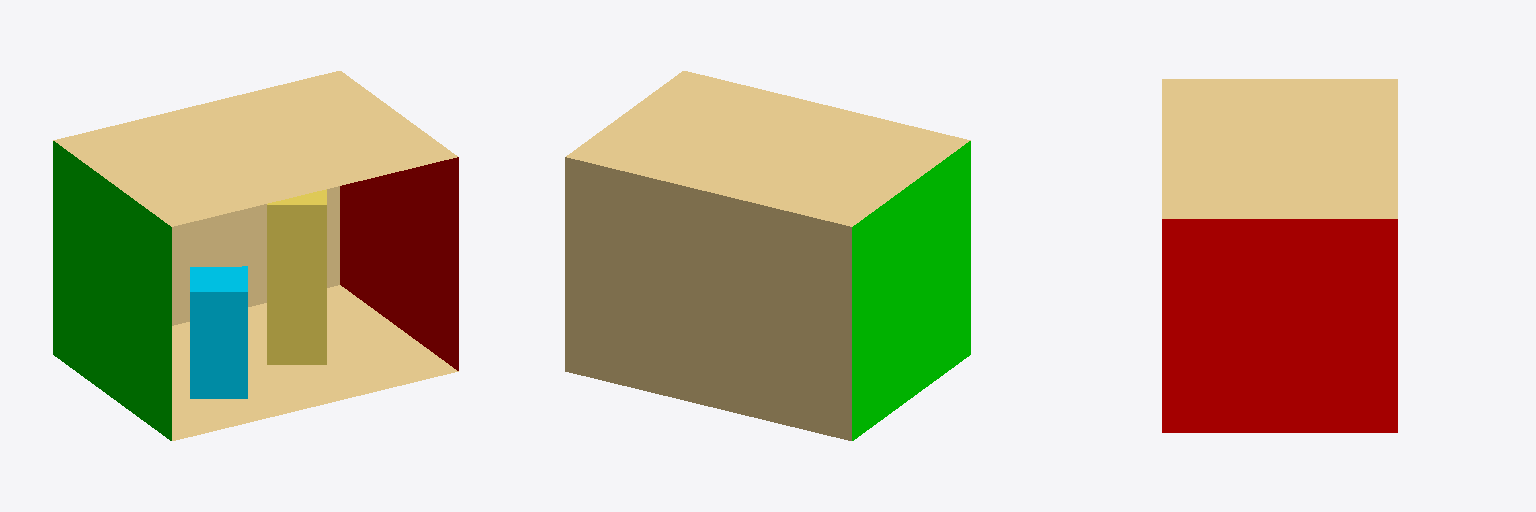
Rendered from cornell.obj.
The picture shows the model from 3 angles: view 1: azimuth 30°, elevation 25°; view 2: azimuth 150°, elevation 25°; view 3: azimuth 270°, elevation 25°; orthographic projection.
Visible parts, largest first — view 1: Ceiling, RightWall, LeftWall, Floor, Box02, BackWall, Box01; view 2: BackWall, Ceiling, RightWall; view 3: LeftWall, Ceiling.
Part boxes in pixels (bbox=[...]): Ceiling: bbox=[53, 71, 457, 226]; RightWall: bbox=[53, 141, 171, 440]; LeftWall: bbox=[340, 157, 458, 370]; Floor: bbox=[172, 285, 458, 440]; Box02: bbox=[267, 189, 326, 364]; BackWall: bbox=[172, 186, 339, 325]; Box01: bbox=[190, 266, 247, 398]; BackWall: bbox=[565, 157, 851, 440]; Ceiling: bbox=[566, 71, 970, 226]; RightWall: bbox=[852, 141, 970, 440]; LeftWall: bbox=[1162, 219, 1397, 432]; Ceiling: bbox=[1162, 79, 1397, 218].
Bounding box in the file's own units: 56 × 40 × 40.